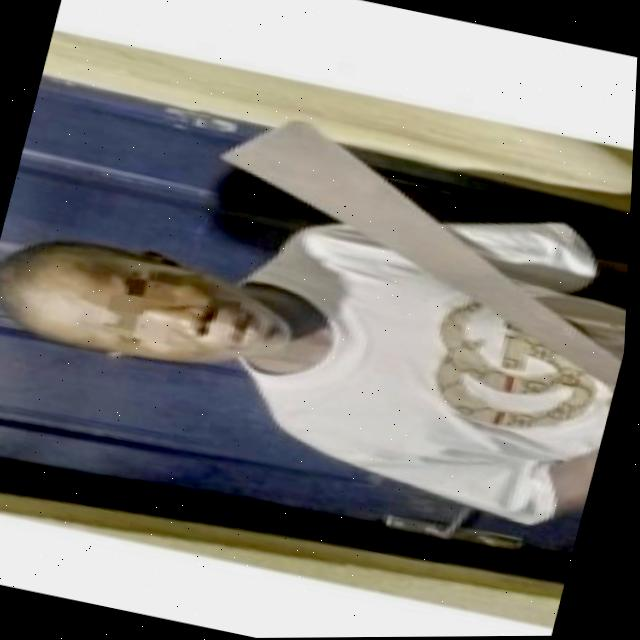long knife: (173, 64, 638, 402)
